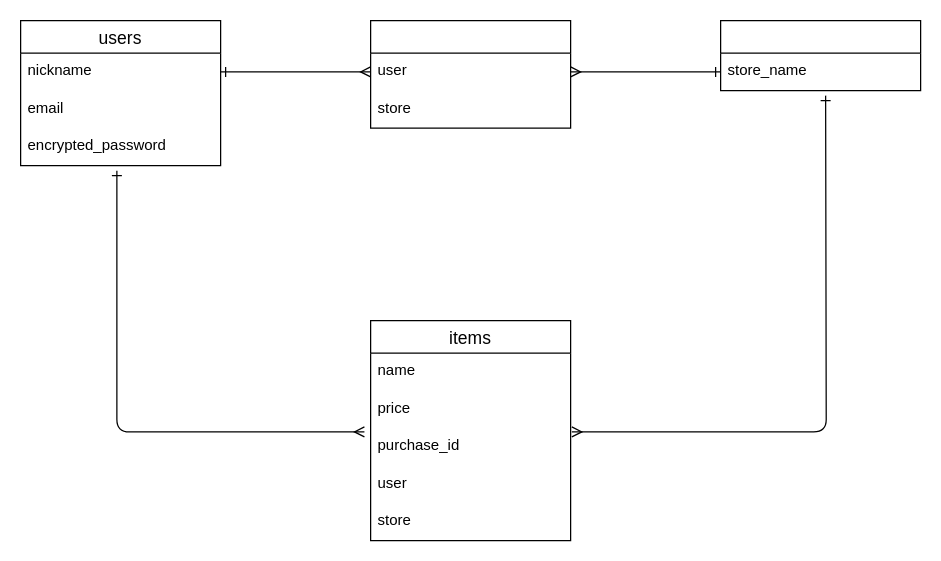
The diagram is 941 pixels wide and 561 high, and some of its shapes have lost their labels. Here are the shapes that lost their labels. From the top down, the box of each, then its label:
(369, 19, 571, 128): store_users
(719, 19, 921, 91): stores
